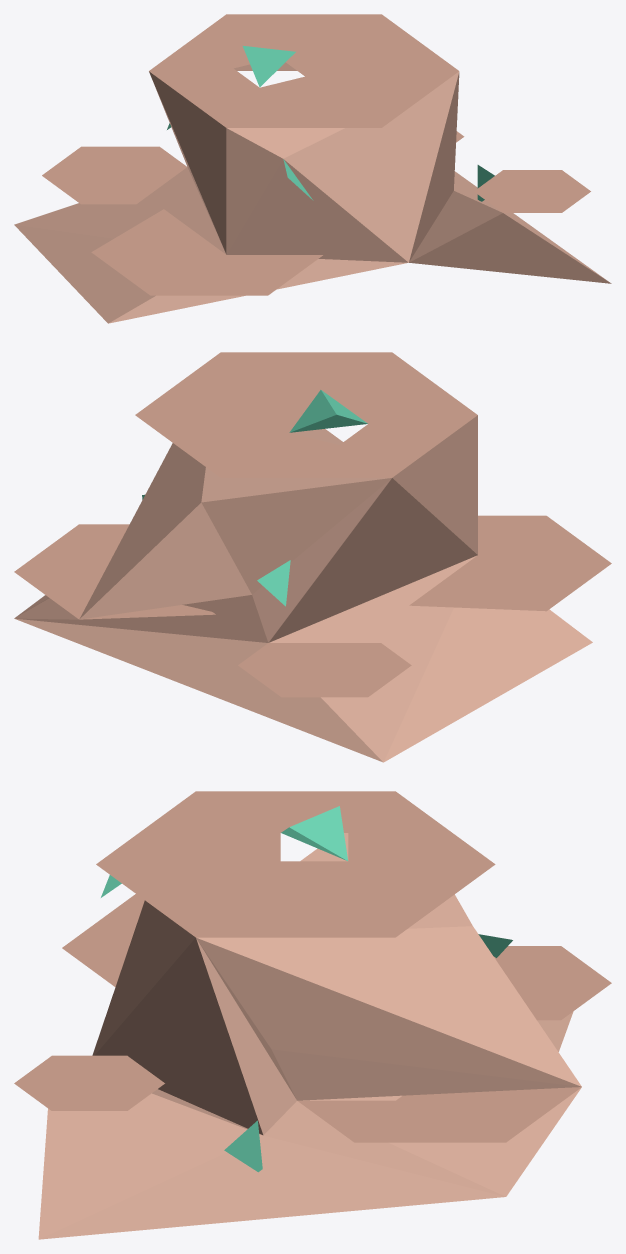
The model's file is rock_crystals.lod.glb.
3 views of the same model, one above another, from view 1: azimuth 30°, elevation 25°; view 2: azimuth 150°, elevation 25°; view 3: azimuth 270°, elevation 25° (orthographic). The views are drawn at different scales.
Parts seen in each view (by area): view 1: rock_crystals; view 2: rock_crystals; view 3: rock_crystals.
Boxes of the visible parts, <box> form: rock_crystals: <box>14,14,611,323</box>; rock_crystals: <box>14,352,611,762</box>; rock_crystals: <box>14,791,611,1239</box>.
Bounding box in the file's own units: 0.7189 × 0.3375 × 0.6643.
